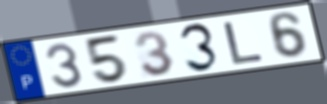3: (175, 22, 219, 73), (133, 29, 177, 78), (43, 41, 86, 89)
5: (83, 32, 130, 86)
6: (267, 11, 310, 60)
L: (223, 20, 267, 66)
